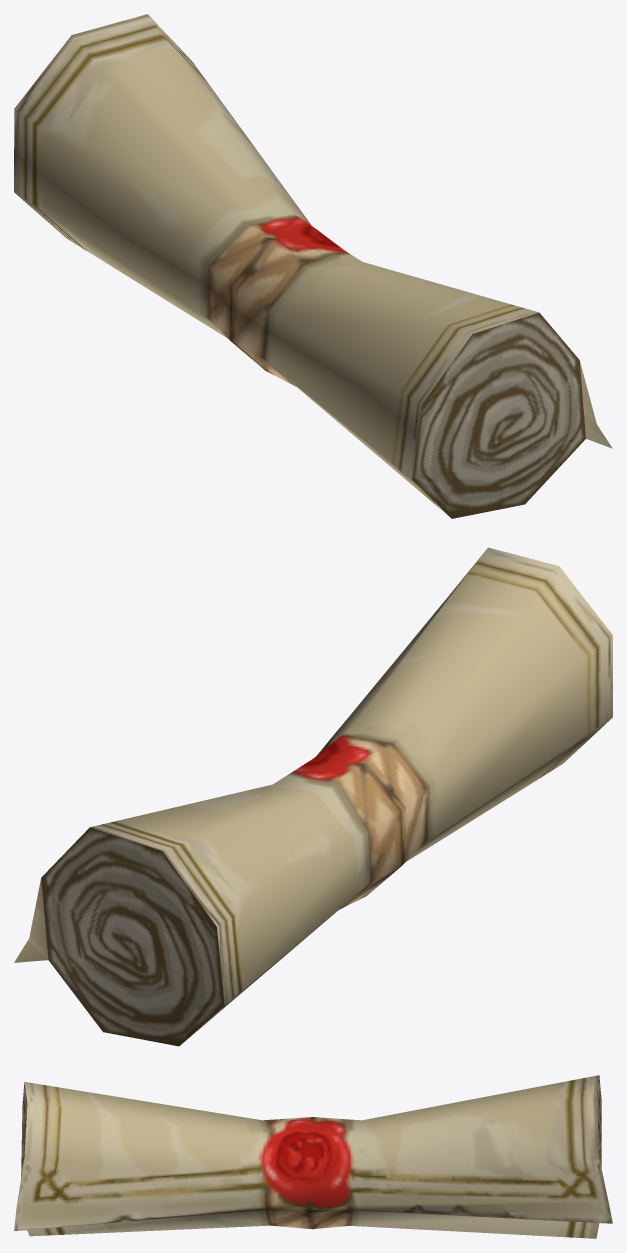
The model's file is SM_PROP_scroll_dungeon_01.fbx.
3 views of the same model, one above another, from view 1: azimuth 30°, elevation 25°; view 2: azimuth 150°, elevation 25°; view 3: azimuth 270°, elevation 25° (orthographic). The views are drawn at different scales.
Visible parts, largest first — view 1: SM_PROP_scroll_dungeon_01; view 2: SM_PROP_scroll_dungeon_01; view 3: SM_PROP_scroll_dungeon_01.
Part boxes in pixels (x1,y1,x2,y2): SM_PROP_scroll_dungeon_01: [14, 14, 612, 518]; SM_PROP_scroll_dungeon_01: [14, 547, 612, 1046]; SM_PROP_scroll_dungeon_01: [14, 1075, 612, 1238].
Size of the model in its own units: 8.15 by 7.91 by 29.55.
